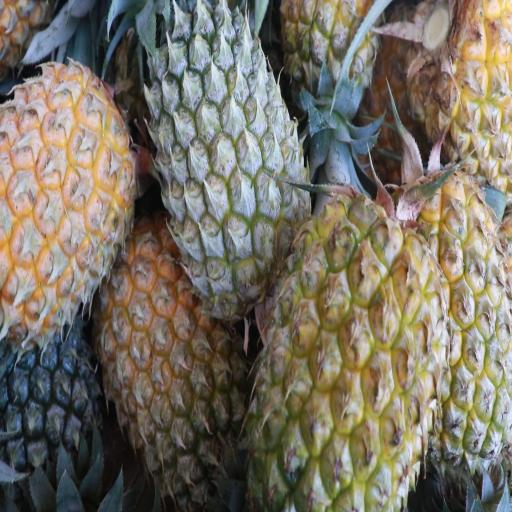------------------------------: (109, 230, 242, 502)
Pineapple - v8 v1: (243, 194, 438, 512), (395, 166, 512, 473), (0, 61, 135, 326)
